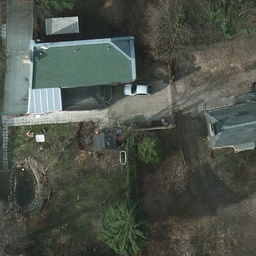car: (122, 81, 154, 95)
